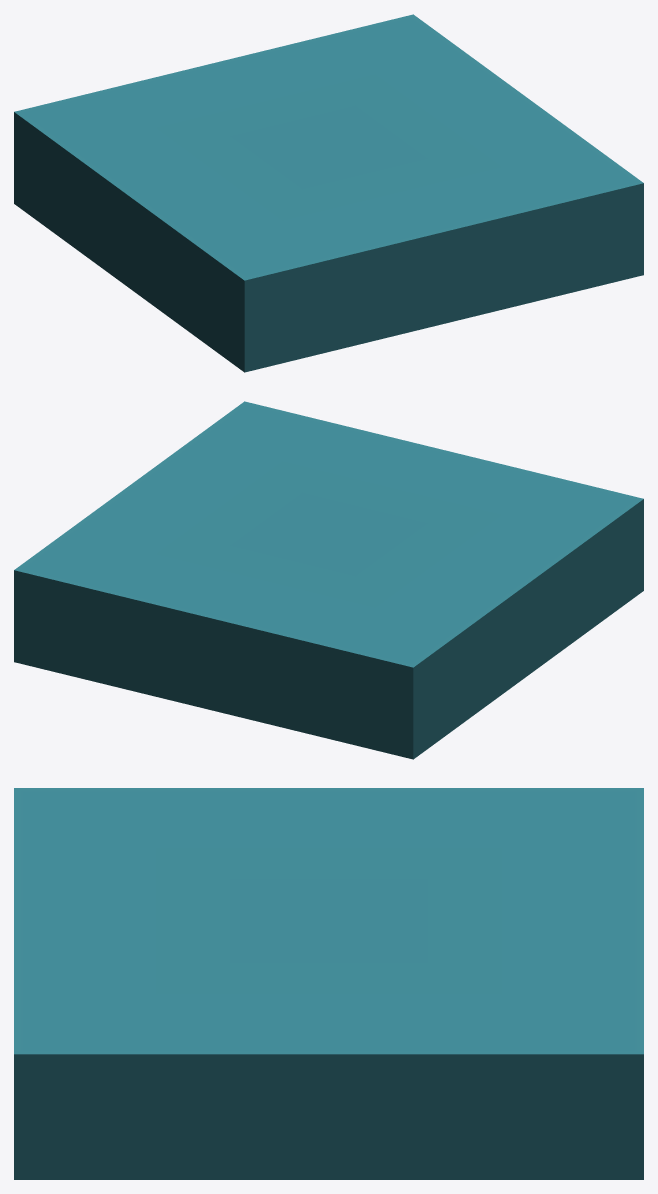
Rendered from tile_shallow_water.glb.
3 views of the same model, one above another, from view 1: azimuth 30°, elevation 25°; view 2: azimuth 150°, elevation 25°; view 3: azimuth 270°, elevation 25° (orthographic). The views are drawn at different scales.
Visible parts, largest first — view 1: tile_shallow_water; view 2: tile_shallow_water; view 3: tile_shallow_water.
Boxes of the visible parts, x1,y1,x2,y2 form: tile_shallow_water: (14,14,643,372); tile_shallow_water: (14,401,643,759); tile_shallow_water: (14,788,643,1179).
Bounding box in the file's own units: 1 × 0.22 × 1.
